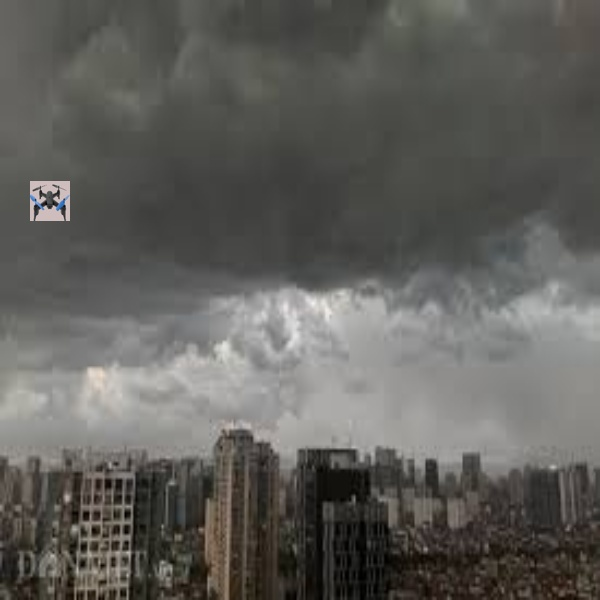drone: (26, 179, 71, 224)
